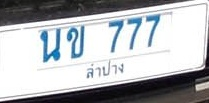txt02: (66, 24, 86, 59)
txt20: (38, 26, 62, 64)
